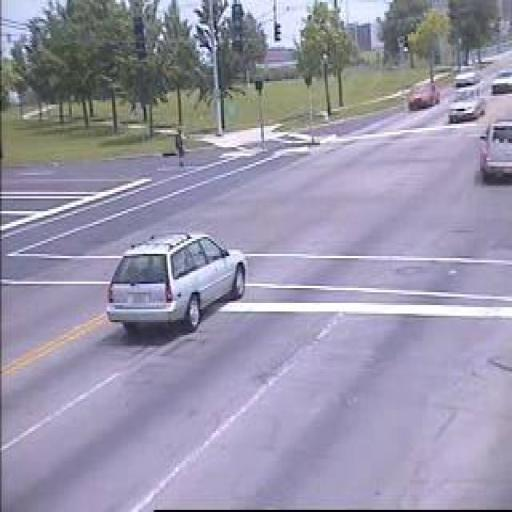Car: (108, 232, 248, 332), (477, 120, 512, 184), (449, 86, 486, 122), (408, 82, 440, 111), (491, 69, 512, 94), (455, 69, 479, 88)
